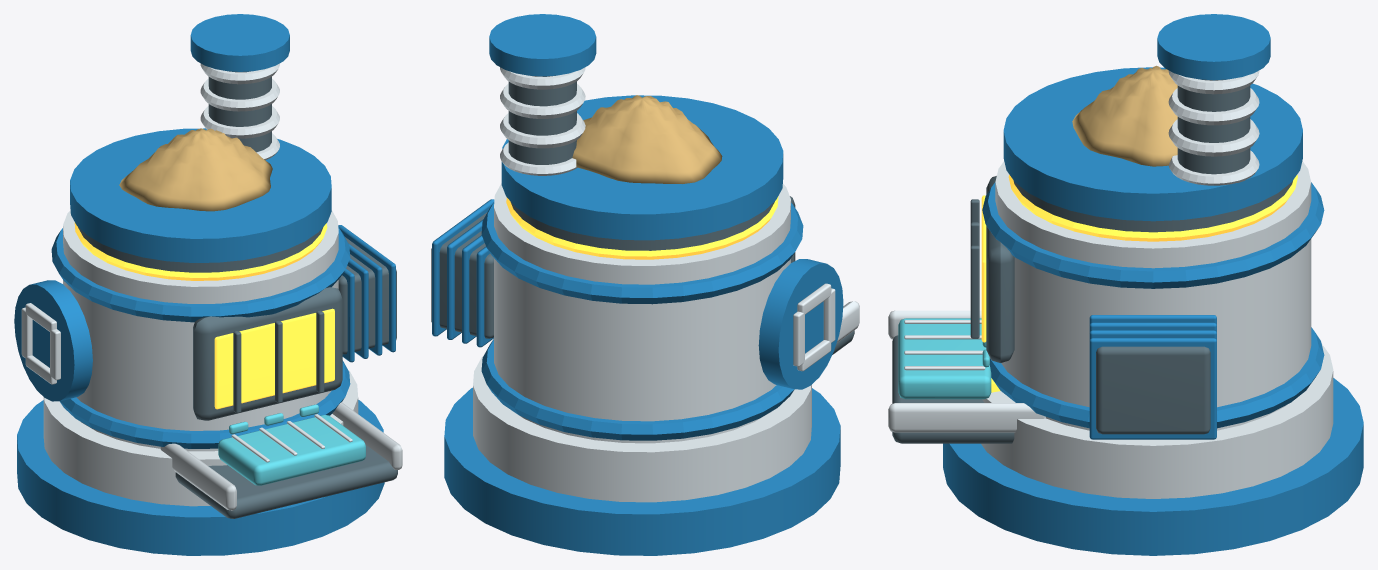
File: GlassFurnace.fbx
3 views of the same model, side by side, from view 1: azimuth 30°, elevation 25°; view 2: azimuth 150°, elevation 25°; view 3: azimuth 270°, elevation 25° (orthographic). The views are drawn at different scales.
Parts seen in each view (by area): view 1: FurnaceBody, Lid, SandFeed, Flywheel, GlassOutput, Bellows; view 2: FurnaceBody, Lid, SandFeed, Flywheel, Bellows; view 3: FurnaceBody, Lid, Bellows, SandFeed, GlassOutput.
Part boxes in pixels (x1=…): FurnaceBody: x1=17, y1=14, x2=402, y2=555; Lid: x1=70, y1=128, x2=331, y2=262; SandFeed: x1=119, y1=128, x2=272, y2=211; Flywheel: x1=14, y1=280, x2=92, y2=401; GlassOutput: x1=218, y1=414, x2=365, y2=485; Bellows: x1=338, y1=225, x2=396, y2=362; FurnaceBody: x1=444, y1=14, x2=859, y2=555; Lid: x1=501, y1=95, x2=783, y2=240; SandFeed: x1=572, y1=95, x2=722, y2=183; Flywheel: x1=758, y1=259, x2=843, y2=389; Bellows: x1=431, y1=199, x2=494, y2=347; FurnaceBody: x1=888, y1=14, x2=1363, y2=555; Lid: x1=1003, y1=67, x2=1302, y2=221; Bellows: x1=1089, y1=315, x2=1216, y2=439; SandFeed: x1=1072, y1=65, x2=1177, y2=166; GlassOutput: x1=898, y1=318, x2=991, y2=399.
Size of the model in its own units: 2.19 by 2.54 by 2.35.
